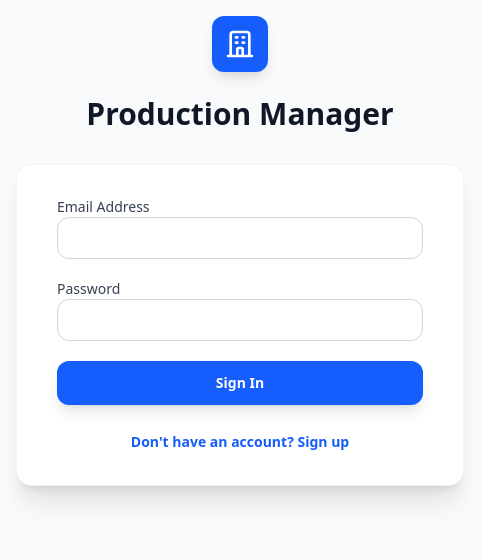
Test case: Authentication › should show validation errors for empty fields
Click the button with test id "login-submit-button" at (240, 383), box [57, 361, 423, 405]
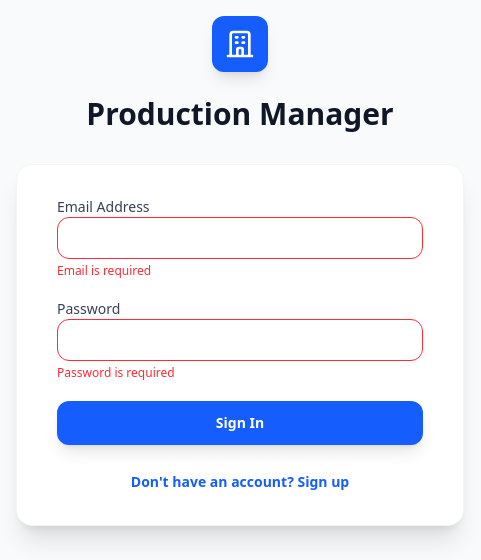
Result: the text "Email is required" is shown at [57, 262, 151, 279]
Result: the text "Password is required" is shown at [57, 364, 175, 381]
